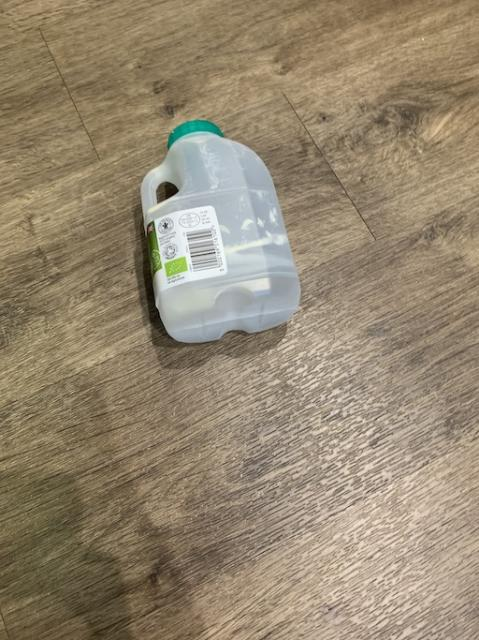plastic: (141, 119, 299, 340)
